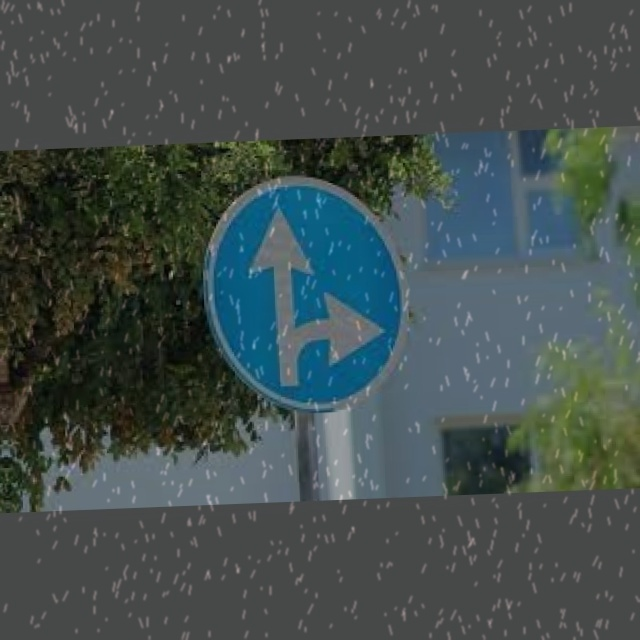Compulsory_Ahead_or_Turn_Right: (202, 172, 412, 421)
